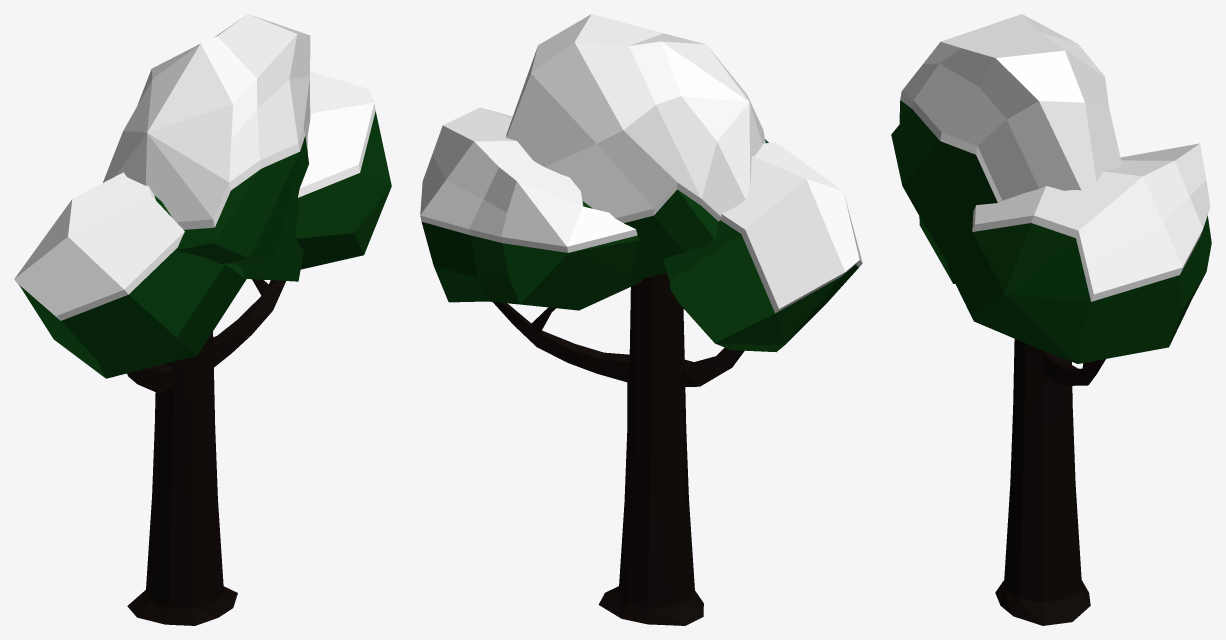
Rendered from tree2.FBX.
The picture shows the model from 3 angles, left to right: view 1: azimuth 30°, elevation 25°; view 2: azimuth 150°, elevation 25°; view 3: azimuth 270°, elevation 25°; orthographic projection. The views are drawn at different scales.
Visible parts, largest first — view 1: Sphere002, Sphere001, Cylinder001, Sphere003; view 2: Sphere002, Sphere003, Cylinder001, Sphere001; view 3: Sphere003, Sphere002, Cylinder001.
Boxes of the visible parts, bbox=[...] form: Sphere002: bbox=[103, 14, 310, 281]; Sphere001: bbox=[14, 172, 246, 378]; Cylinder001: bbox=[127, 279, 285, 625]; Sphere003: bbox=[296, 71, 391, 269]; Sphere002: bbox=[506, 14, 768, 281]; Sphere003: bbox=[420, 107, 642, 310]; Cylinder001: bbox=[493, 273, 744, 625]; Sphere001: bbox=[663, 142, 862, 352]; Sphere003: bbox=[950, 143, 1211, 363]; Sphere002: bbox=[891, 14, 1121, 269]; Cylinder001: bbox=[995, 339, 1105, 625].
Bounding box in the file's own units: 46.41 × 62.35 × 30.8.
